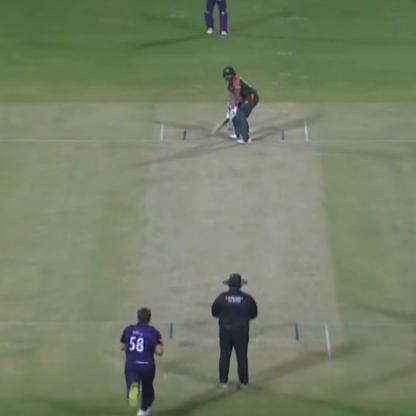bat: (207, 110, 232, 138)
pitch: (155, 121, 341, 376)
